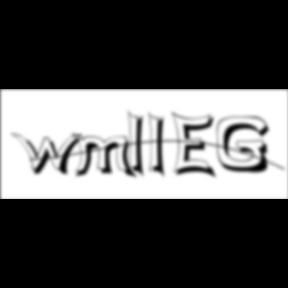E: (172, 110, 220, 182)
G: (216, 116, 276, 176)
I: (149, 110, 173, 182)
l: (128, 108, 152, 182)
m: (72, 132, 140, 181)
w: (11, 132, 89, 178)
